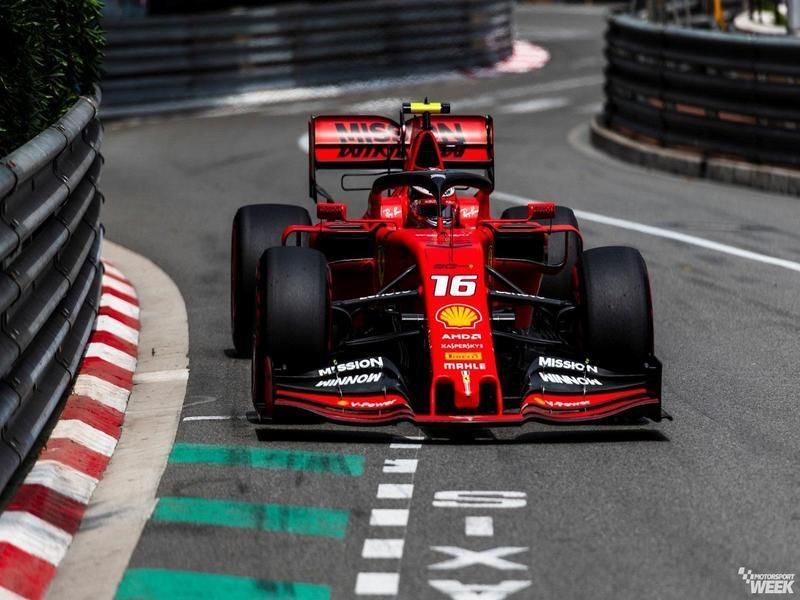f1: (224, 97, 712, 446)
